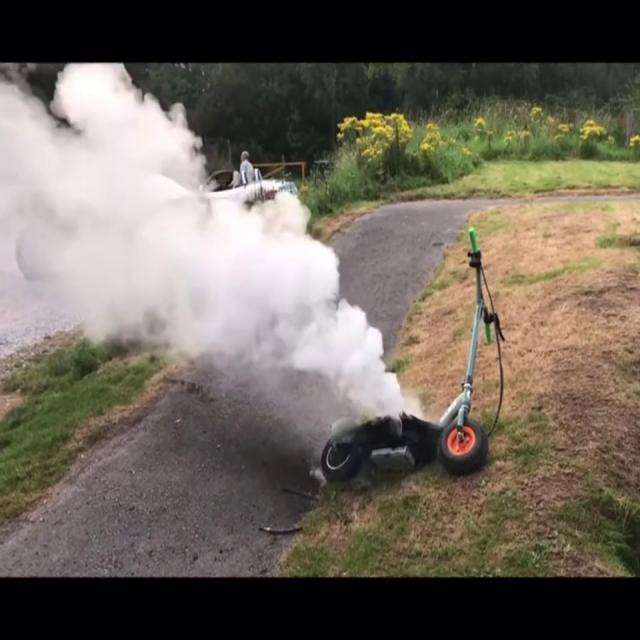Smoke: (0, 70, 412, 446)
